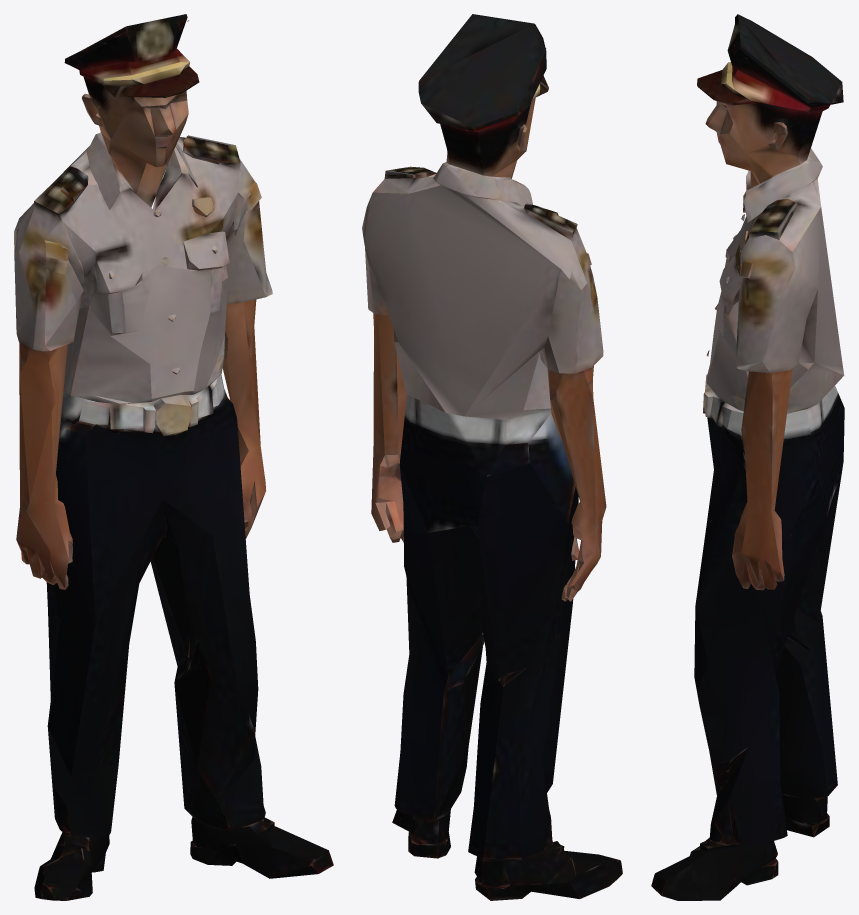
Rendered from dishub_idle_lod2.glb.
The picture shows the model from 3 angles, left to right: view 1: azimuth 30°, elevation 25°; view 2: azimuth 150°, elevation 25°; view 3: azimuth 270°, elevation 25°; orthographic projection. The views are drawn at different scales.
Visible parts, largest first — view 1: tripo_node_e2cdfe0b; view 2: tripo_node_e2cdfe0b; view 3: tripo_node_e2cdfe0b.
Boxes of the visible parts, x1,y1,x2,y2 form: tripo_node_e2cdfe0b: [14, 14, 333, 900]; tripo_node_e2cdfe0b: [362, 14, 622, 900]; tripo_node_e2cdfe0b: [651, 14, 844, 900].
Size of the model in its own units: 30.81 by 98.67 by 21.23.
Materials: 1 (1 with a texture image).
